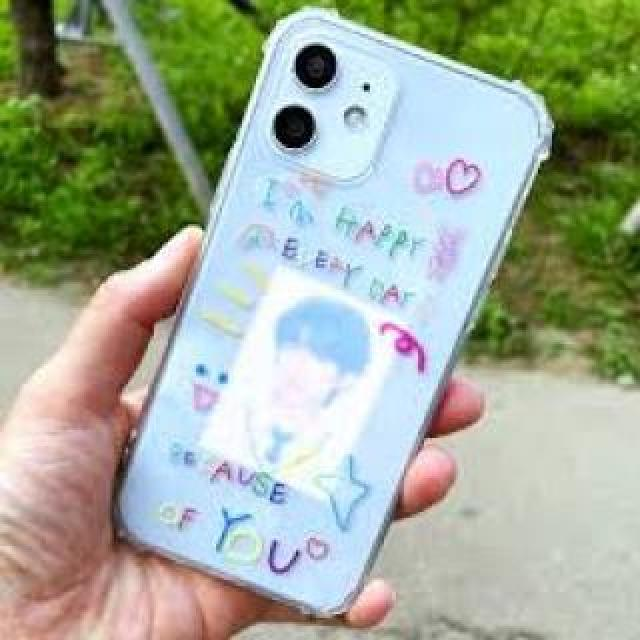smart phone: (147, 0, 445, 622)
